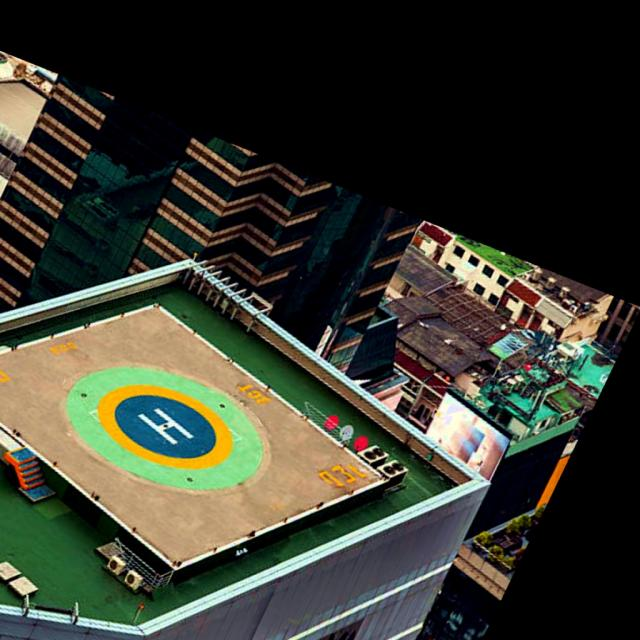helipad: (90, 379, 236, 471)
